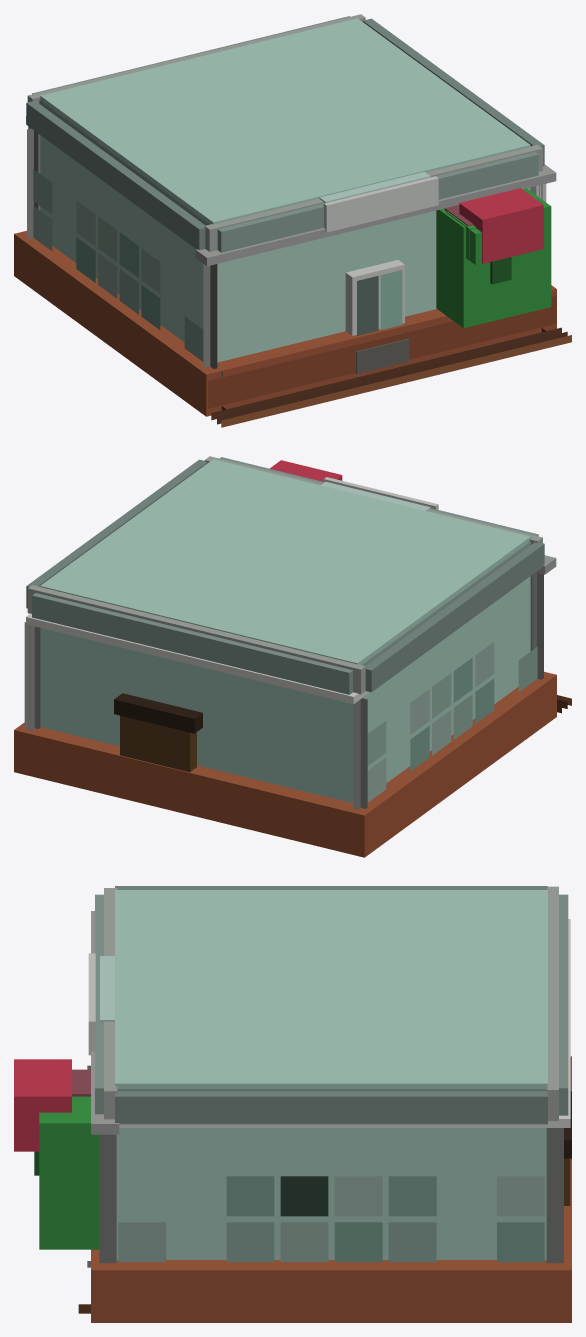
File: MonsterFlowerSil.fbx
3 renders of one model, top to bottom at view 1: azimuth 30°, elevation 25°; view 2: azimuth 150°, elevation 25°; view 3: azimuth 270°, elevation 25°, orthographic. The views are drawn at different scales.
Parts seen in each view (by area): view 1: MF_S_All; view 2: MF_S_All; view 3: MF_S_All.
Part boxes in pixels (x1=…): MF_S_All: x1=14, y1=14, x2=571, y2=427; MF_S_All: x1=14, y1=456, x2=571, y2=857; MF_S_All: x1=14, y1=886, x2=571, y2=1322.
Size of the model in its own units: 40.04 by 20 by 44.14.
